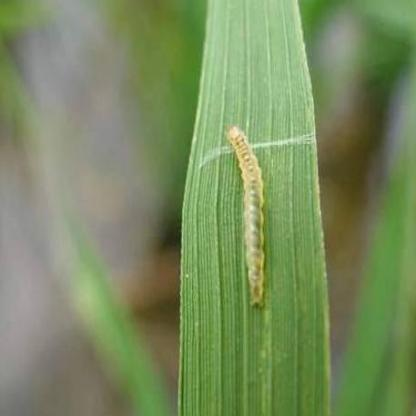leaf-folder: (219, 109, 278, 321)
